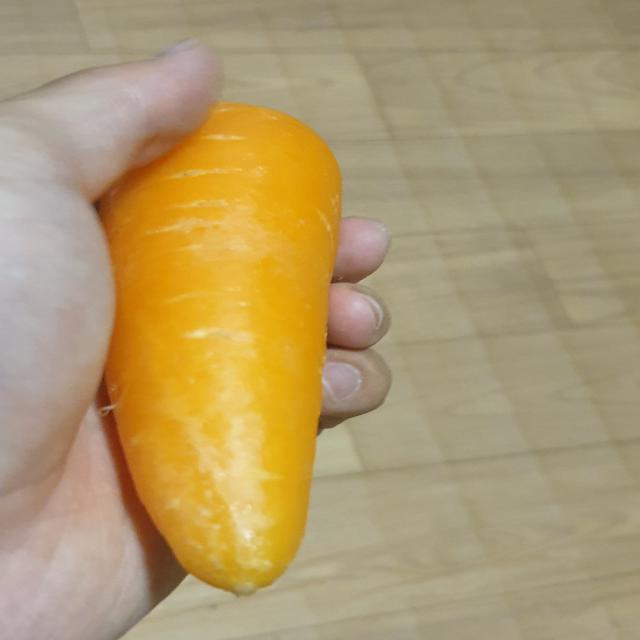carrot: (94, 92, 360, 604)
